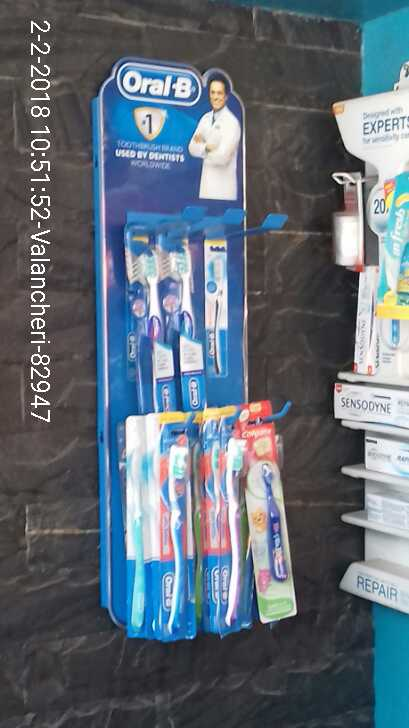oralb: (148, 405, 203, 644), (236, 416, 300, 609), (202, 414, 252, 634), (165, 235, 210, 403), (127, 242, 172, 398)
